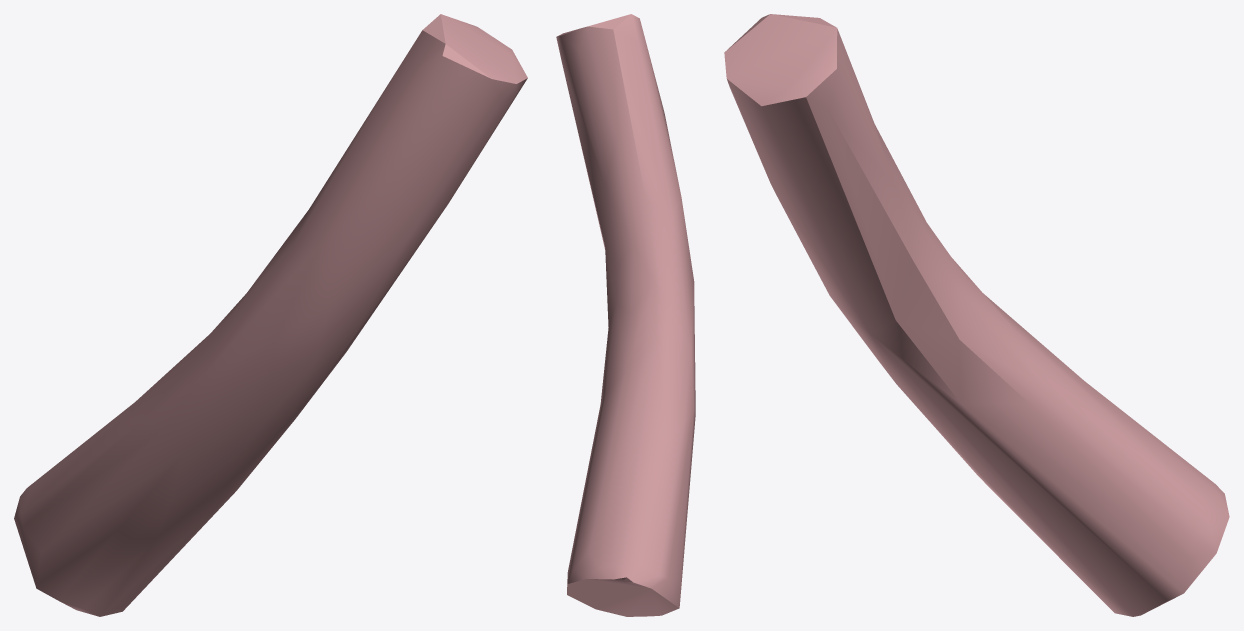
Rendered from fma68211_fj6555.glb.
3 views of the same model, side by side, from view 1: azimuth 30°, elevation 25°; view 2: azimuth 150°, elevation 25°; view 3: azimuth 270°, elevation 25° (orthographic). The views are drawn at different scales.
Visible parts, largest first — view 1: FMA68211_FJ6555; view 2: FMA68211_FJ6555; view 3: FMA68211_FJ6555.
Part boxes in pixels (box(x1,y1,x2,y2)): FMA68211_FJ6555: box(14, 14, 527, 616); FMA68211_FJ6555: box(556, 14, 695, 616); FMA68211_FJ6555: box(724, 14, 1229, 616).
Size of the model in its own units: 0.0047 by 0.00909 by 0.00612.
